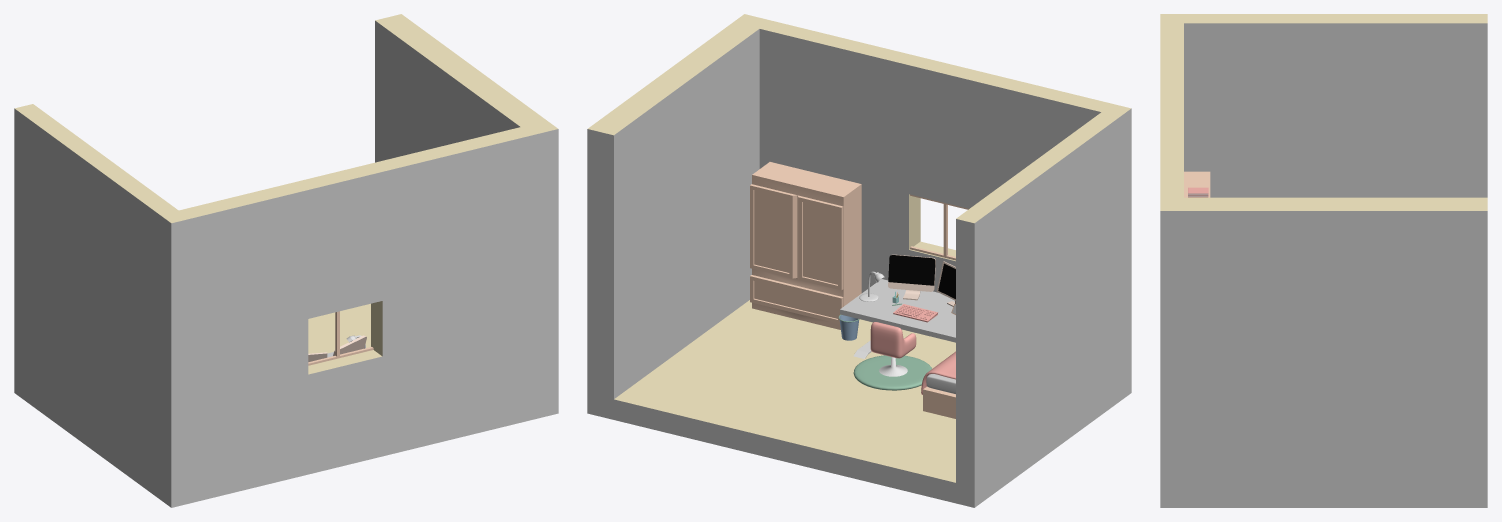
File: Study_Room_9.glb
3 views of the same model, side by side, from view 1: azimuth 30°, elevation 25°; view 2: azimuth 150°, elevation 25°; view 3: azimuth 270°, elevation 25° (orthographic). The views are drawn at different scales.
Parts seen in each view (by area): view 1: Room; view 2: Room, Closet, Table Top, Rug, Desktop Screen, Chair, Bedframe; view 3: Room, Shelf.001.
Boxes of the visible parts, box(x1,y1,x2,y2) form: Room: box(14, 14, 558, 507); Room: box(587, 14, 1131, 507); Closet: box(750, 162, 861, 329); Table Top: box(840, 279, 955, 342); Rug: box(853, 355, 931, 390); Desktop Screen: box(888, 255, 935, 285); Chair: box(870, 322, 916, 358); Bedframe: box(923, 386, 955, 418); Room: box(1160, 14, 1487, 507); Shelf.001: box(1184, 171, 1210, 197).
Bounding box in the file's own units: 27.72 × 19.48 × 19.48.
